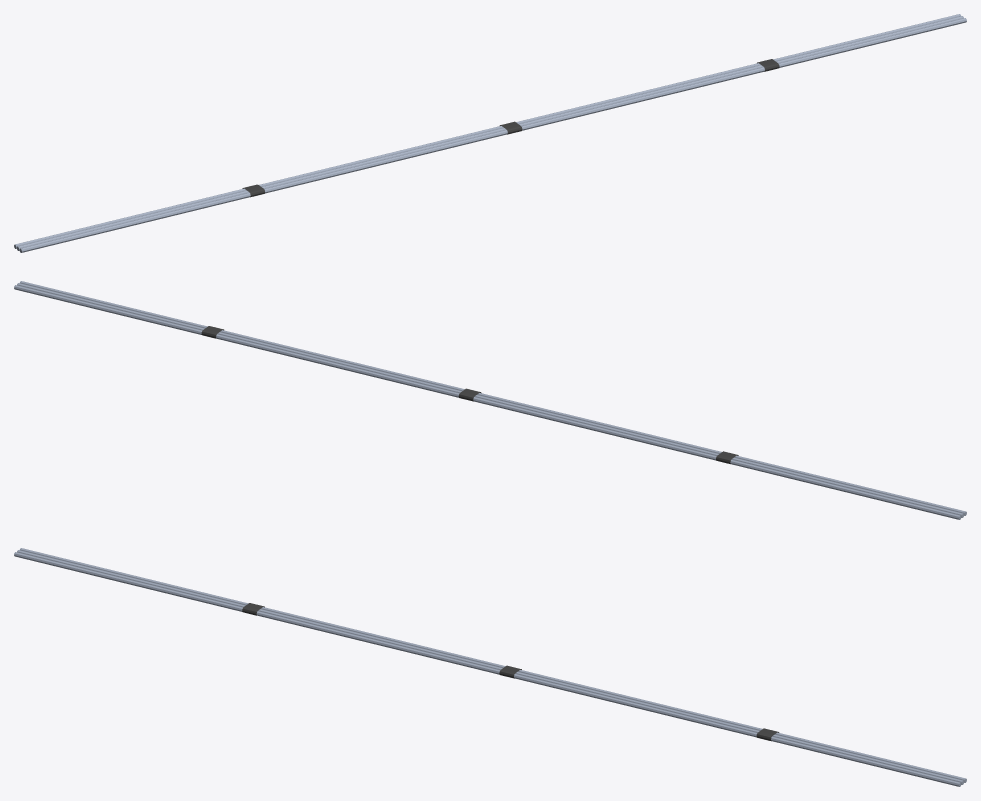
The model's file is tuyau.fbx.
The picture shows the model from 3 angles, top to bottom: view 1: azimuth 30°, elevation 25°; view 2: azimuth 150°, elevation 25°; view 3: azimuth 330°, elevation 25°; orthographic projection.
Visible parts, largest first — view 1: group8; view 2: group8; view 3: group8.
Part boxes in pixels (bbox=[...]): group8: bbox=[14, 14, 966, 252]; group8: bbox=[14, 281, 966, 519]; group8: bbox=[14, 548, 966, 786].
Size of the model in its own units: 1764 by 8.96 by 27.09.
